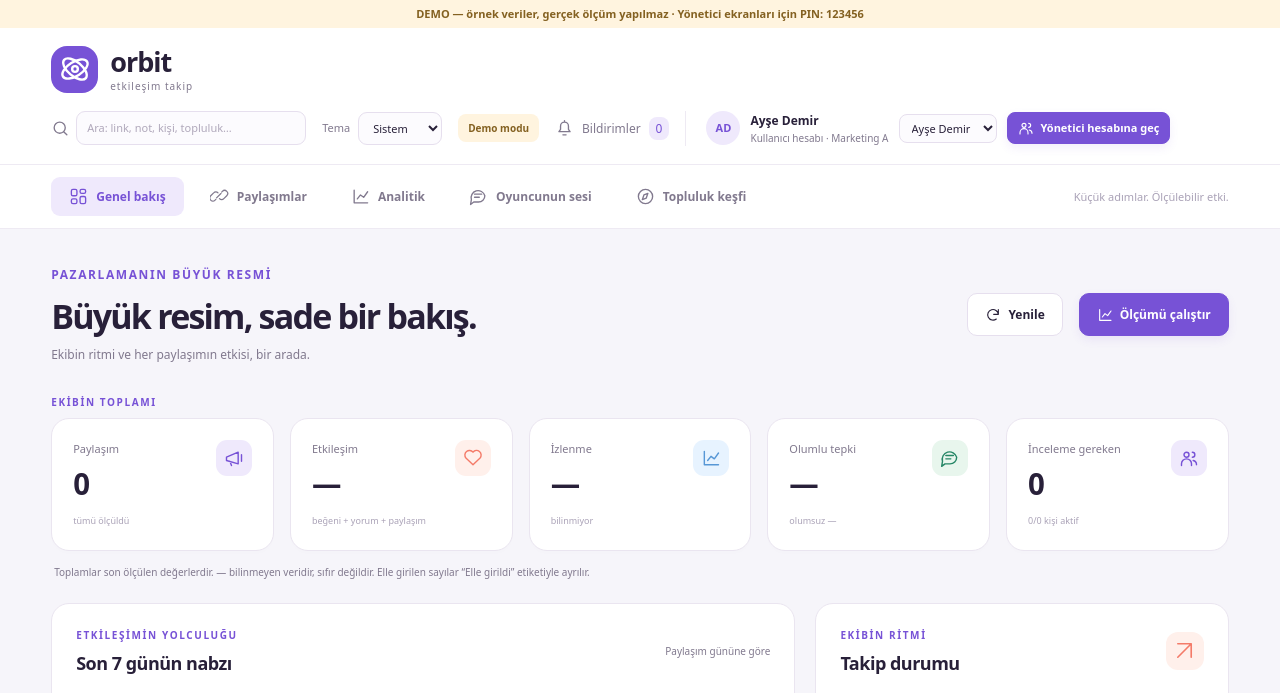
it: master prompt features › lets a user read and clear their own inbox
This screenshot has width=1280, height=693.
Select "Cem Kaya" in the dropdown named "Hesap" at (948,128), box [898, 114, 996, 143]
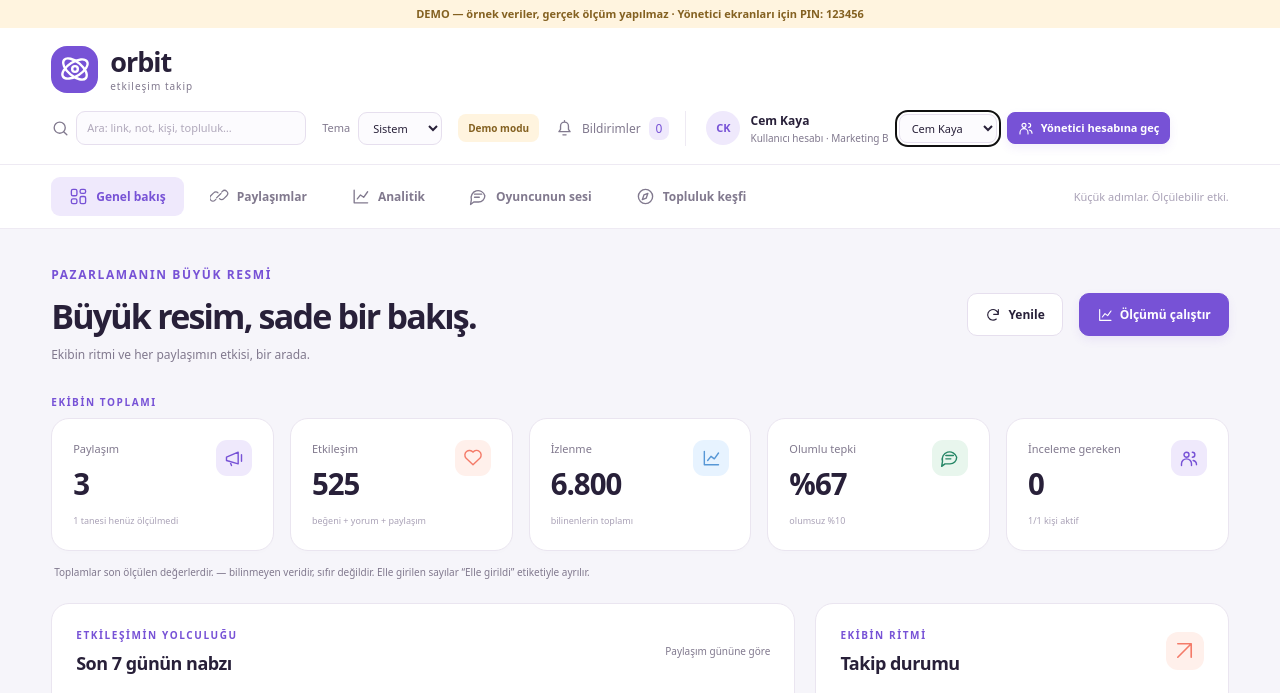
Click the button "Bildirimler 0" at (612,128), box [555, 117, 669, 140]
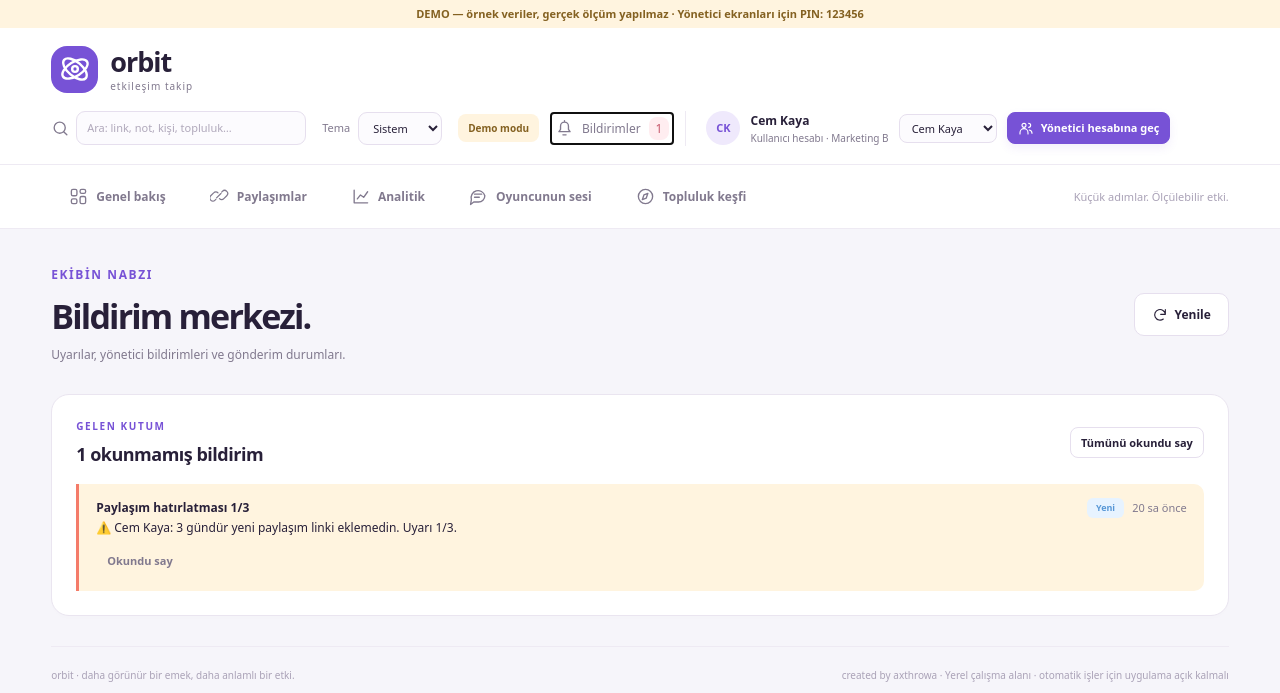
Check: the text "Paylaşım hatırlatması 1/3" is shown, box [96, 498, 249, 518]
Click the button "Tümünü okundu say" at (1137,443), box [1070, 427, 1204, 458]
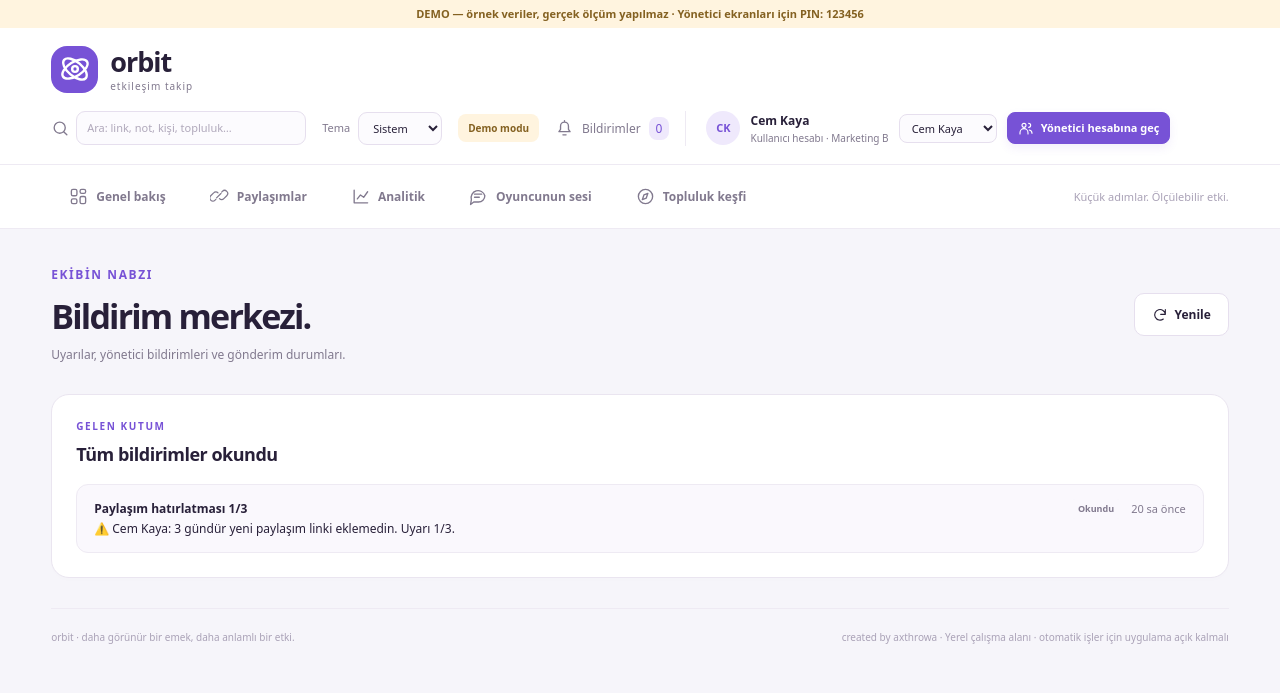
Check: the heading "Tüm bildirimler okundu" is shown, box [76, 442, 278, 467]
